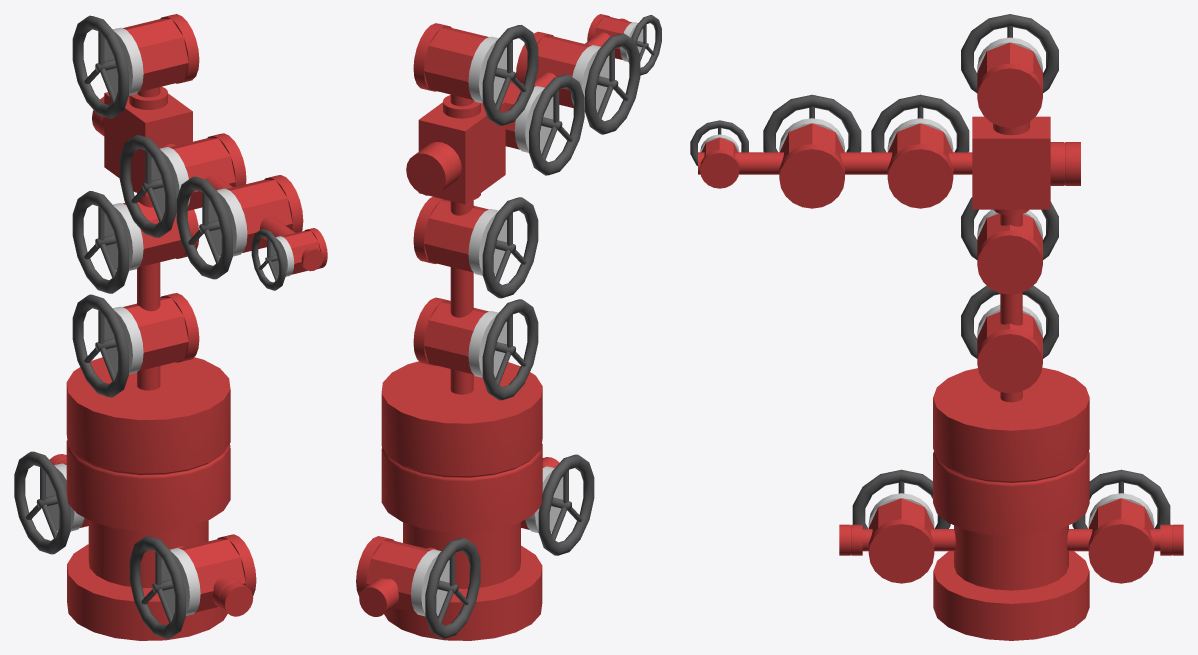
File: Pozo_cabeza.fbx
3 renders of one model, left to right at view 1: azimuth 30°, elevation 25°; view 2: azimuth 150°, elevation 25°; view 3: azimuth 270°, elevation 25°, orthographic. The views are drawn at different scales.
Visible parts, largest first — view 1: Cilindro3, Valve (×8), octa1 (×7), Cilindro4 (×8), Cilindro1, Cuadro, Cilindro2, Cilindro5 (×5), Columna, Cilindro6, Columna3, Cilindro9; view 2: Cilindro3, Valve (×8), octa1 (×7), Cilindro4 (×7), Cilindro1, Cuadro, Cilindro2, Cilindro5 (×5), Cilindro10, Columna, Cilindro7, Cilindro9 (+1 smaller); view 3: Cilindro5 (×8), Cilindro3, Valve (×8), Cilindro1, octa1 (×7), Cuadro, Cilindro2, Columna3, Columna1, Cilindro10, Columna, Cilindro6 (+1 smaller).
Part boxes in pixels (left/top/right/bottom): Cilindro3: left=66, top=357, right=230, bottom=530; Valve (×8): left=14, top=15, right=285, bottom=638; octa1 (×7): left=122, top=19, right=319, bottom=612; Cilindro4 (×8): left=46, top=27, right=294, bottom=615; Cilindro1: left=67, top=544, right=227, bottom=640; Cuadro: left=104, top=92, right=192, bottom=197; Cilindro2: left=88, top=520, right=208, bottom=587; Cilindro5 (×5): left=160, top=14, right=303, bottom=595; Columna: left=137, top=87, right=160, bottom=390; Cilindro6: left=212, top=577, right=253, bottom=616; Columna3: left=208, top=177, right=323, bottom=271; Cilindro9: left=129, top=86, right=167, bottom=109; Cilindro3: left=381, top=361, right=542, bottom=532; Valve (×8): left=425, top=15, right=661, bottom=638; octa1 (×7): left=366, top=17, right=631, bottom=612; Cilindro4 (×7): left=411, top=36, right=609, bottom=616; Cilindro1: left=384, top=545, right=542, bottom=640; Cuadro: left=418, top=101, right=505, bottom=204; Cilindro2: left=403, top=522, right=520, bottom=588; Cilindro5 (×5): left=356, top=23, right=553, bottom=596; Cilindro10: left=406, top=142, right=461, bottom=195; Columna: left=450, top=94, right=473, bottom=394; Cilindro7: left=359, top=578, right=398, bottom=616; Cilindro9: left=443, top=95, right=480, bottom=118; Cilindro5 (×8): left=700, top=63, right=1154, bottom=583; Cilindro3: left=933, top=367, right=1089, bottom=536; Valve (×8): left=690, top=14, right=1170, bottom=528; Cilindro1: left=933, top=551, right=1089, bottom=640; octa1 (×7): left=779, top=42, right=1154, bottom=548; Cuadro: left=972, top=116, right=1050, bottom=209; Cilindro2: left=954, top=525, right=1068, bottom=590; Columna3: left=698, top=152, right=886, bottom=174; Columna1: left=862, top=529, right=1160, bottom=551; Cilindro10: left=1050, top=142, right=1080, bottom=185; Columna: left=1000, top=214, right=1022, bottom=402; Cilindro6: left=839, top=524, right=862, bottom=555.
Size of the model in its own units: 4.28 by 17.2 by 13.46.
